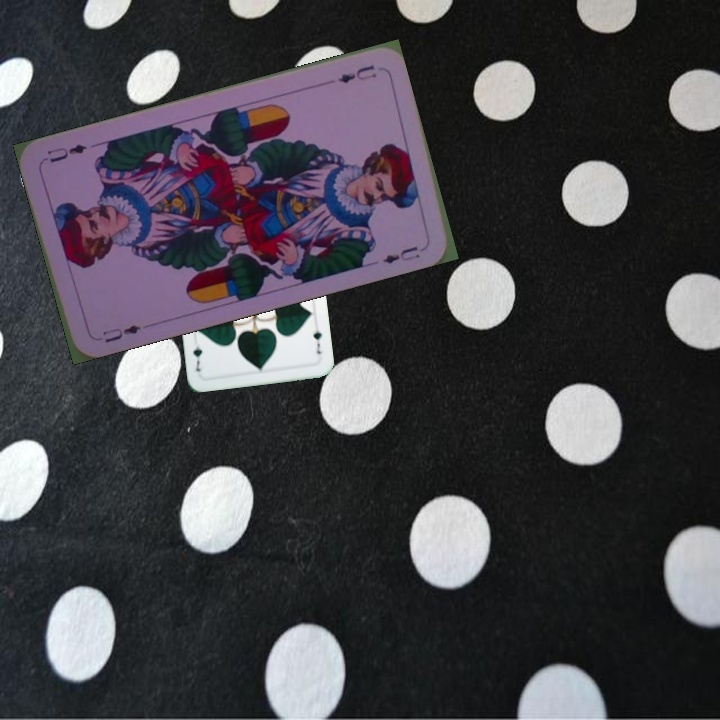EU: (98, 321, 144, 346), (335, 61, 380, 86)
G7: (309, 326, 324, 357)
